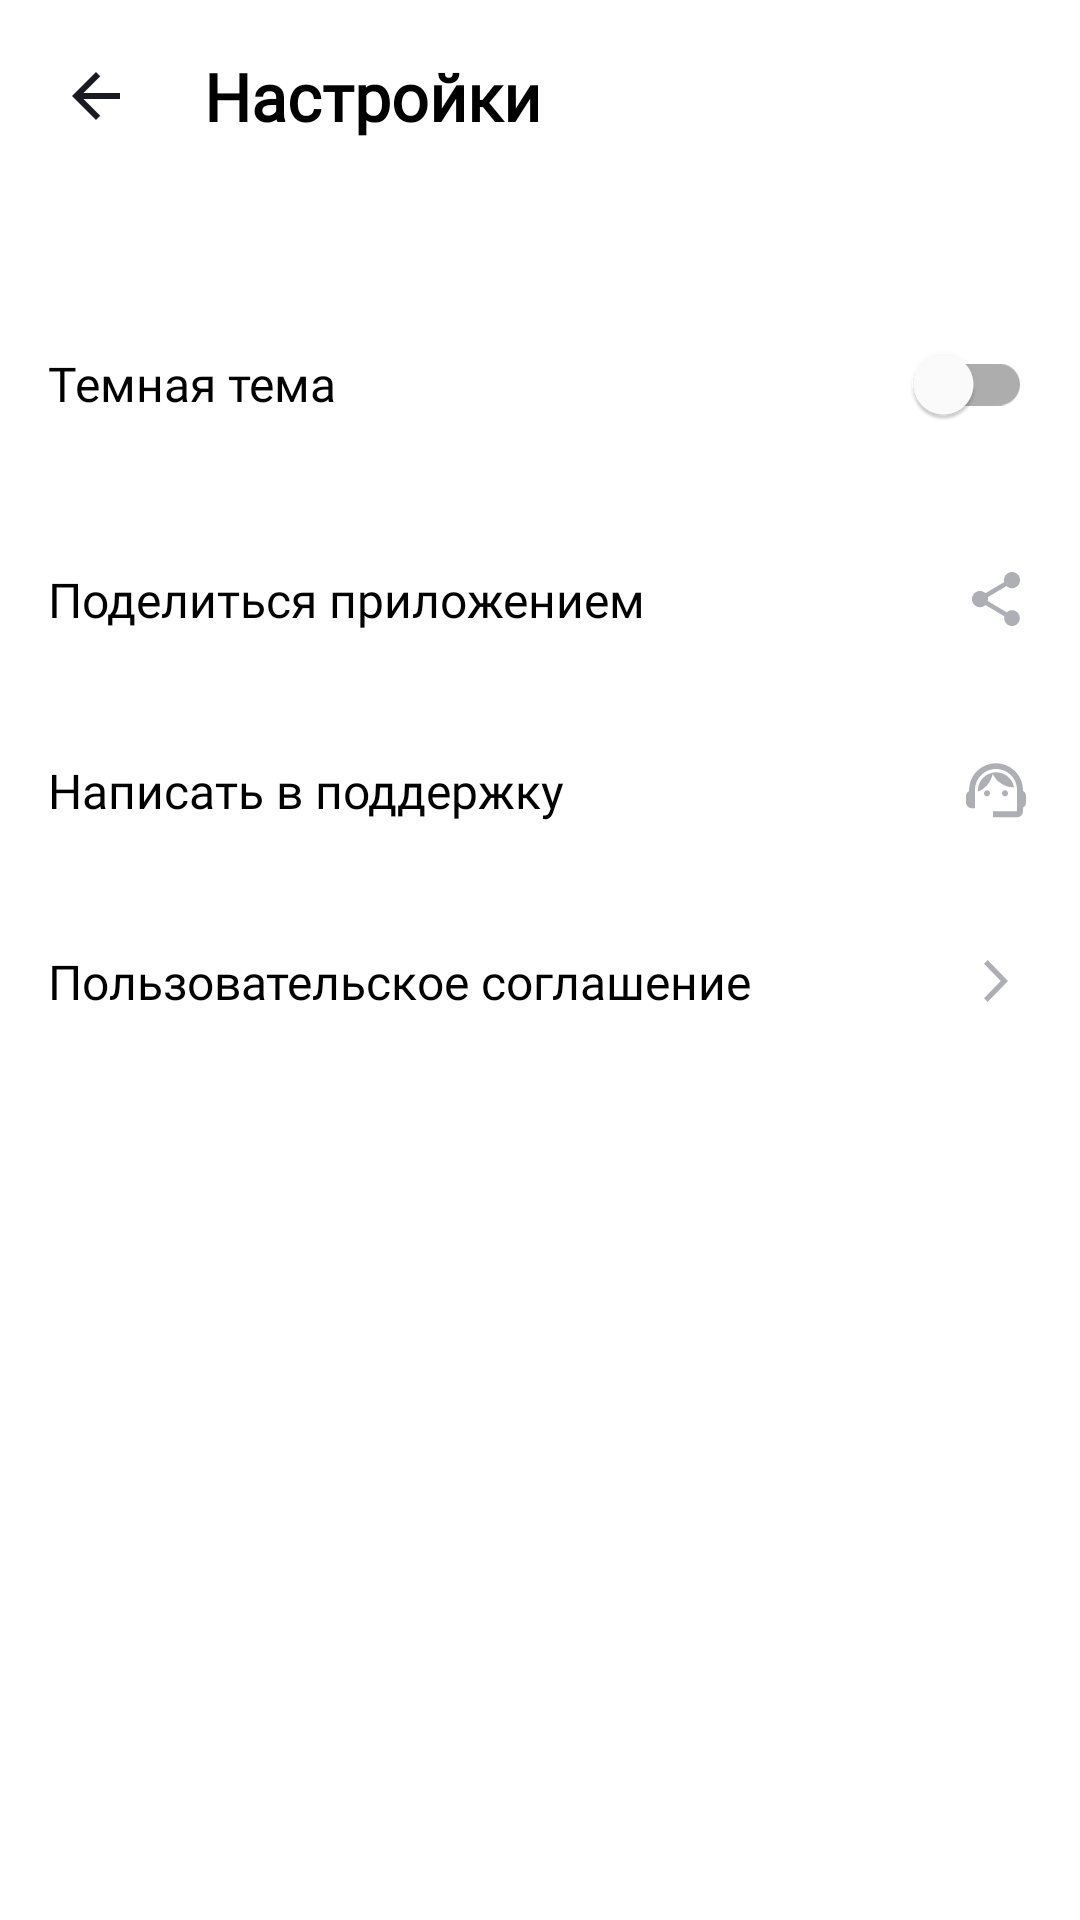

Locate icon controls on the screen. Image size 1080x1920, boxes as (x1, y1, x2, y2).
Написать в поддержку: (966, 763, 1026, 817)
Поделиться приложением: (972, 572, 1020, 626)
